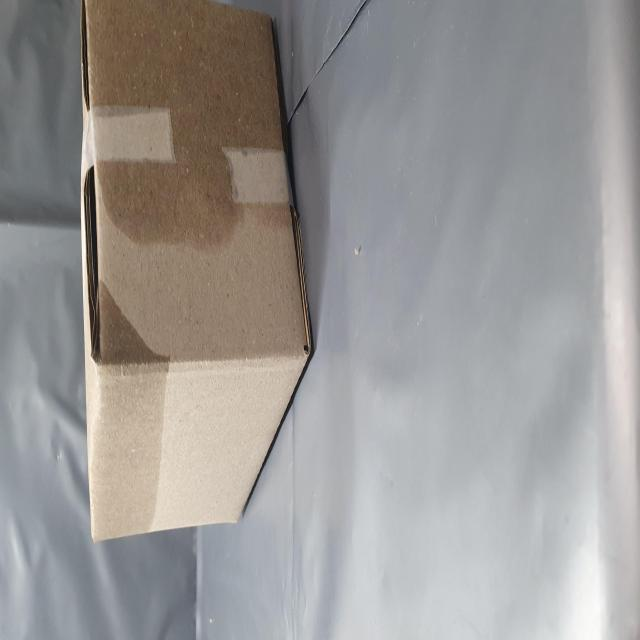wet: (213, 167, 360, 500), (51, 150, 206, 326)
